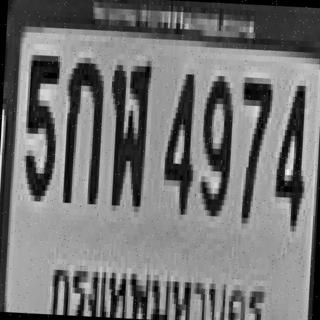A01: (61, 51, 104, 199)
A42: (106, 56, 150, 204)
N04: (160, 68, 197, 209), (272, 79, 306, 226)
N05: (21, 49, 58, 196)
N07: (236, 72, 272, 219)
N09: (197, 70, 233, 211)
